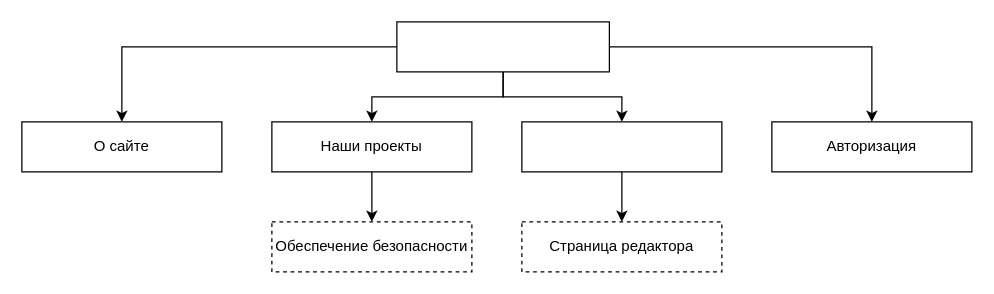
This 994x294 diagram has some shape labels left out. Each missing label, with the centre of its shape:
Главная страница: (x=502, y=46)
Профиль: (x=621, y=146)
